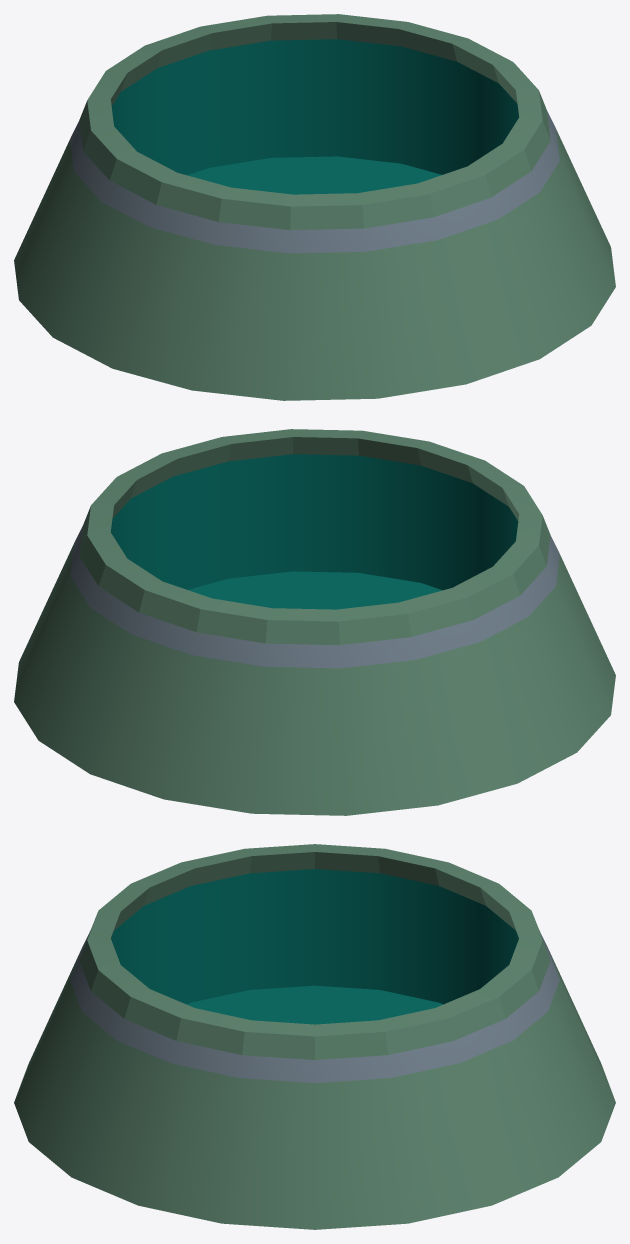
Rendered from TreatBowl.fbx.
3 renders of one model, top to bottom at view 1: azimuth 30°, elevation 25°; view 2: azimuth 150°, elevation 25°; view 3: azimuth 270°, elevation 25°, orthographic.
Parts seen in each view (by area): view 1: pasted__pCylinder1; view 2: pasted__pCylinder1; view 3: pasted__pCylinder1.
Boxes of the visible parts, x1,y1,x2,y2 form: pasted__pCylinder1: [14, 14, 615, 400]; pasted__pCylinder1: [14, 429, 615, 815]; pasted__pCylinder1: [14, 844, 615, 1229].
Bounding box in the file's own units: 4.47 × 1.35 × 4.47.
